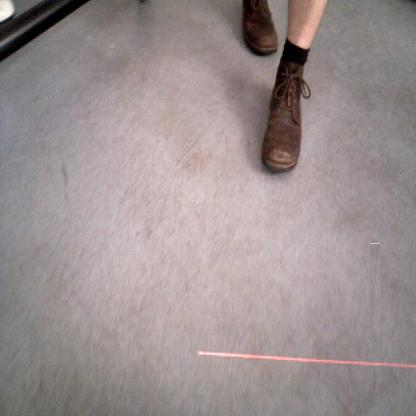mark: (370, 243, 380, 332), (59, 160, 69, 186), (246, 138, 252, 148)
